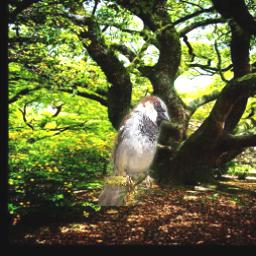Sparrow: (97, 96, 170, 207)
